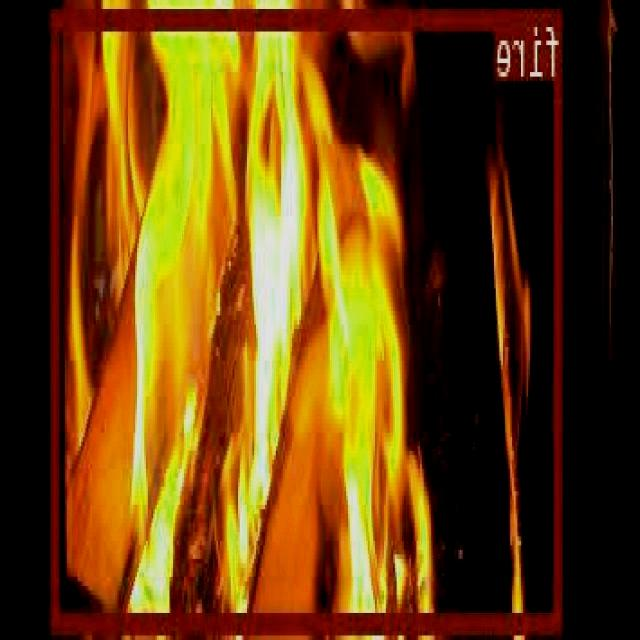fire: (52, 6, 563, 629)
